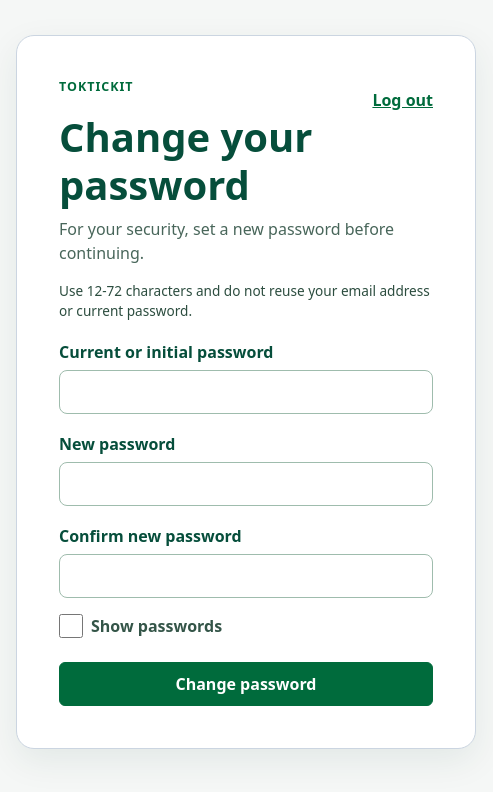
Change Password › keeps the gate visible and explains a failed logout safely
This screenshot has width=493, height=792.
Check: the heading "Change your password" is shown, box [59,113,356,209]
Click the button "Log out": (403, 100) [372,78,433,122]
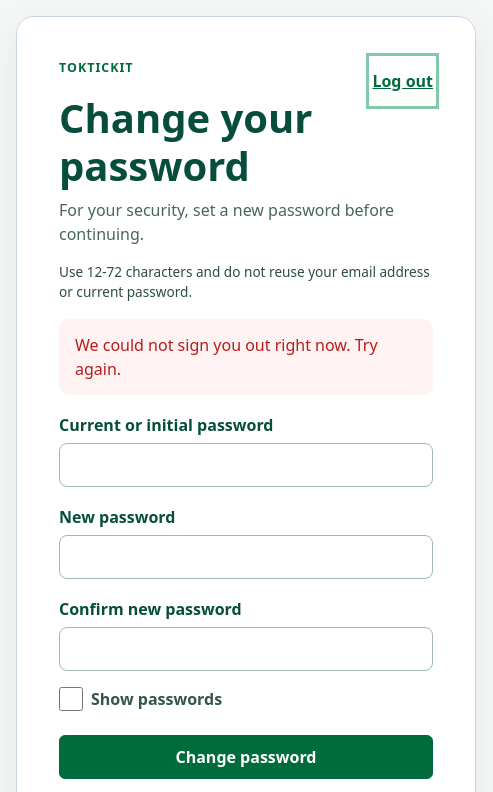
Check: the heading "Change your password" is shown, box [59,94,356,190]
Check: the text "We could not sign you out right now. Try again." is shown, box [59,318,433,394]
